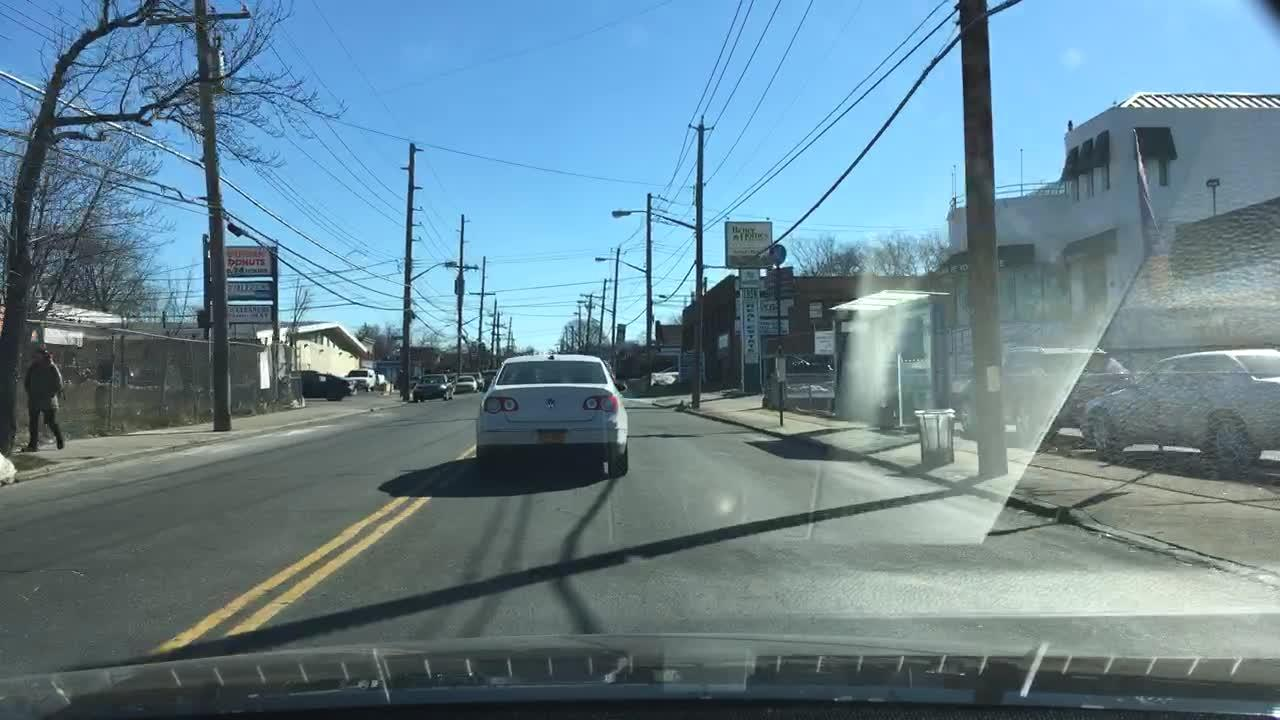Volkswagen: (542, 397, 558, 410)
